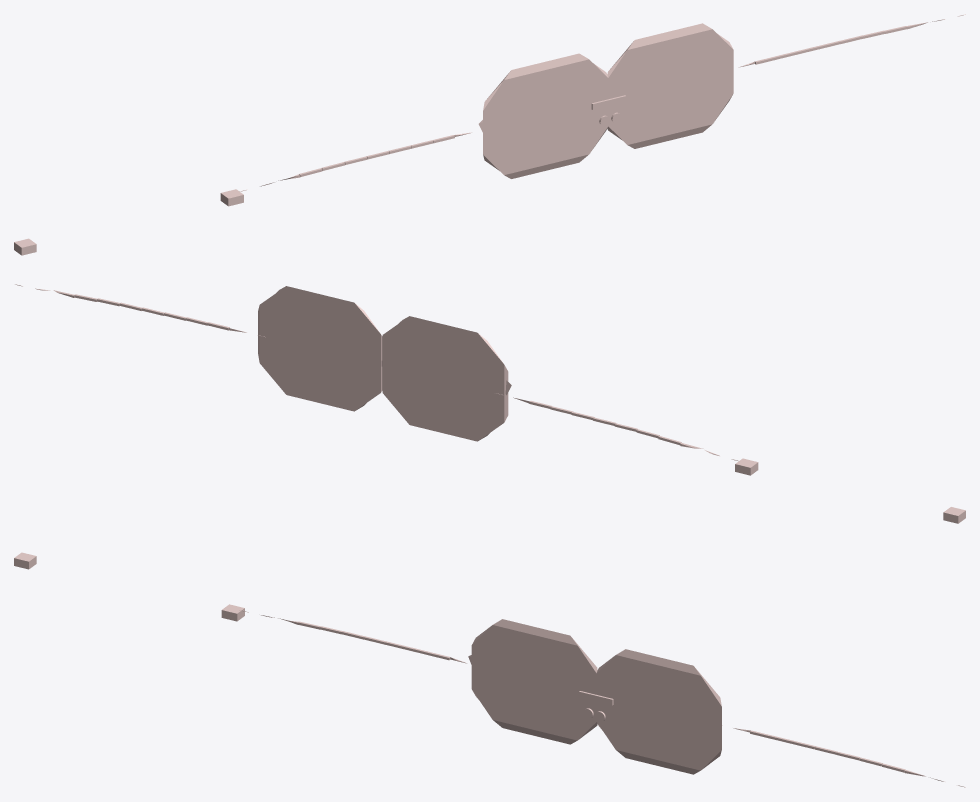
File: deformed_test2.glb
3 renders of one model, top to bottom at view 1: azimuth 30°, elevation 25°; view 2: azimuth 150°, elevation 25°; view 3: azimuth 330°, elevation 25°, orthographic.
Visible parts, largest first — view 1: Frame, LeftTemple, RightTemple, TempleTips; view 2: Frame, LeftTemple, RightTemple, TempleTips; view 3: Frame, RightTemple, LeftTemple, TempleTips.
Part boxes in pixels (x1,y1,x2,y2): Frame: (483, 23, 733, 178); LeftTemple: (239, 132, 471, 191); RightTemple: (738, 14, 965, 67); TempleTips: (14, 189, 243, 255); Frame: (258, 286, 508, 441); LeftTemple: (495, 393, 740, 461); RightTemple: (15, 284, 265, 337); TempleTips: (735, 458, 965, 523); Frame: (471, 619, 721, 774); RightTemple: (722, 725, 965, 787); LeftTemple: (241, 610, 466, 663); TempleTips: (14, 552, 244, 621).
Bounding box in the file's own units: 508 × 55.82 × 11.63.
